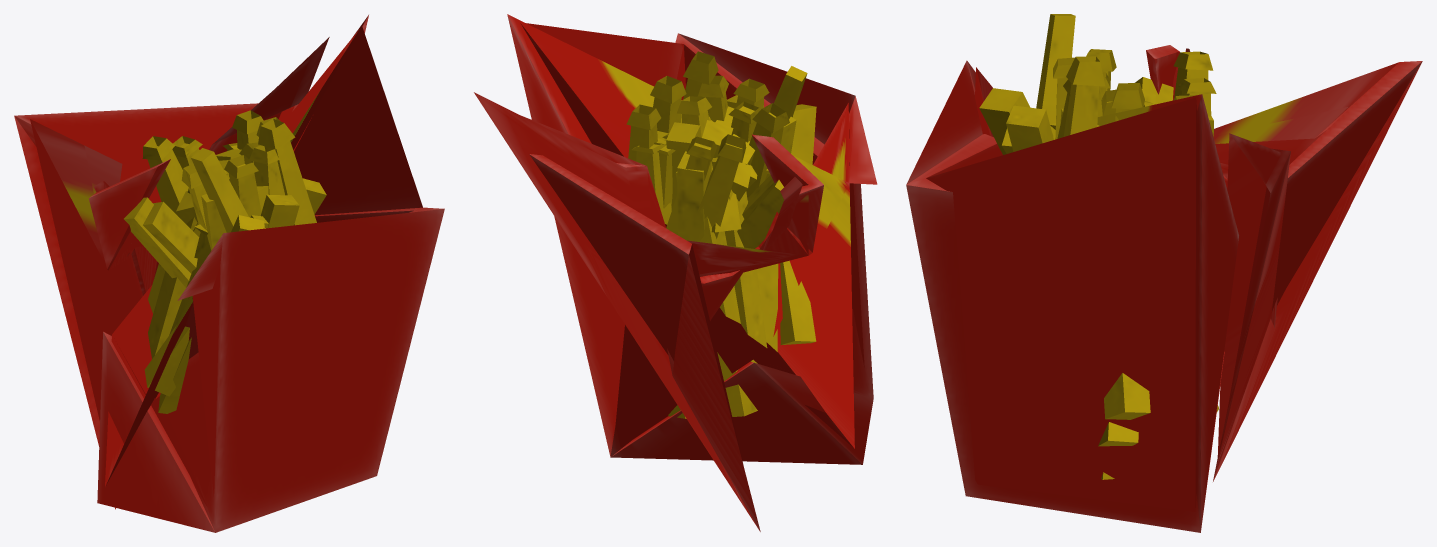
Rendered from potato sliced.obj.
3 renders of one model, left to right at view 1: azimuth 30°, elevation 25°; view 2: azimuth 150°, elevation 25°; view 3: azimuth 270°, elevation 25°, orthographic. The views are drawn at different scales.
Parts seen in each view (by area): view 1: Cube_fracturepart1, Cube_fracturepart2, Voronoi_Fracture.1; view 2: Cube_fracturepart1, Cube_fracturepart2, Voronoi_Fracture.1; view 3: Cube_fracturepart1, Cube_fracturepart2, Voronoi_Fracture.1.
Boxes of the visible parts, box(x1,y1,x2,y2) form: Cube_fracturepart1: box(97, 15, 444, 532); Cube_fracturepart2: box(14, 37, 329, 509); Voronoi_Fracture.1: box(124, 110, 326, 413); Cube_fracturepart1: box(507, 14, 877, 464); Cube_fracturepart2: box(474, 92, 823, 531); Voronoi_Fracture.1: box(626, 51, 816, 418); Cube_fracturepart1: box(906, 60, 1238, 532); Cube_fracturepart2: box(1146, 45, 1422, 481); Voronoi_Fracture.1: box(979, 14, 1218, 479).
Size of the model in its own units: 402 by 546 by 475.
3 materials, 3 textured.
